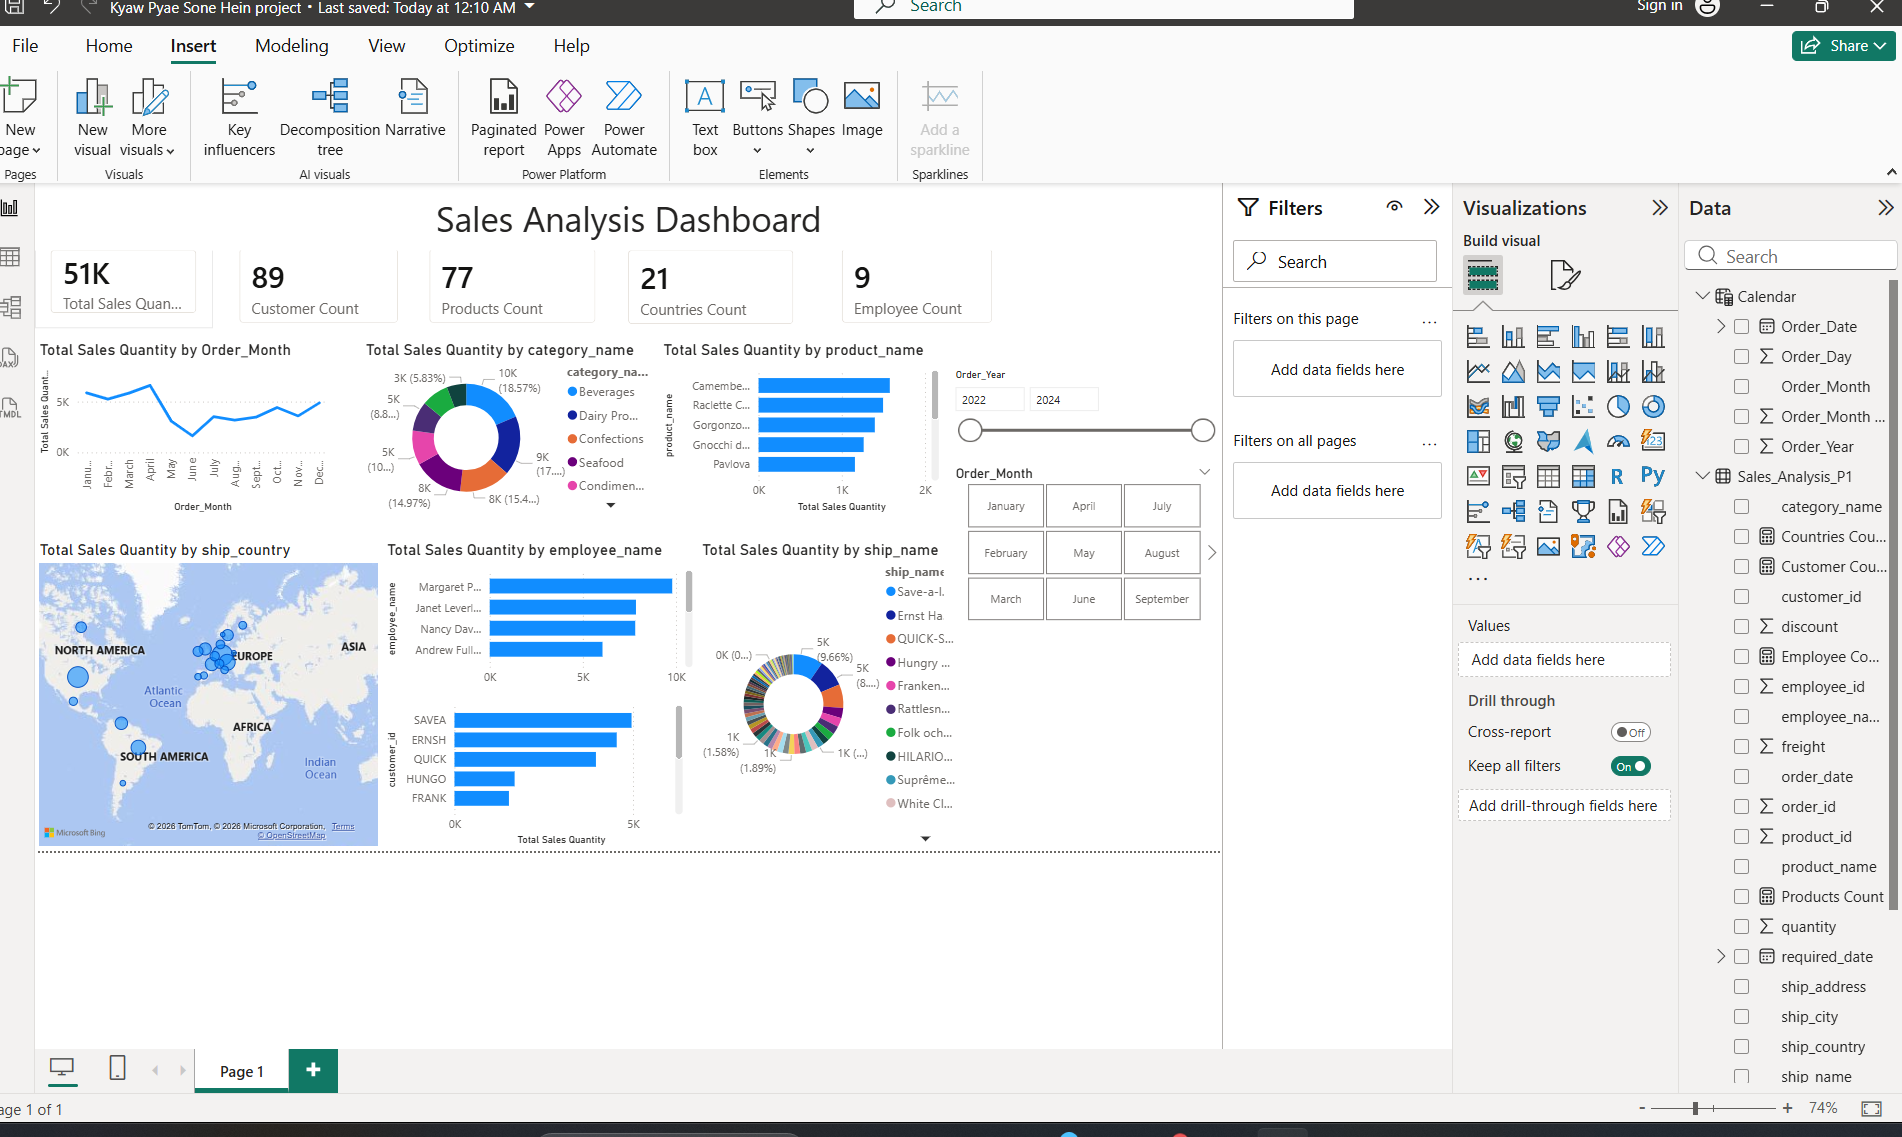

The page's visual inventory and layout, read from the dashboard file:
{"tool":"powerbi","page":{"name":"Page 1","canvas":[1280,720],"ordinal":0},"visuals":[{"type":"cardVisual","fields":{"Data":["Sales_Analysis_P1.Total Sales Quantity"]},"box":[0,54.7,191.9,102.3],"z":0},{"type":"cardVisual","fields":{"Data":["Sales_Analysis_P1.Customer Count"]},"box":[203.1,53.8,205.8,114.3],"z":1000},{"type":"cardVisual","fields":{"Data":["Sales_Analysis_P1.Products Count"]},"box":[408.8,53.8,213.8,114.3],"z":2000},{"type":"cardVisual","fields":{"Data":["Sales_Analysis_P1.Countries Count"]},"box":[622.7,55.1,212.5,114.3],"z":3000},{"type":"cardVisual","fields":{"Data":["Sales_Analysis_P1.Employee Count"]},"box":[852.6,53.8,196.3,114.3],"z":4000},{"type":"donutChart","fields":{"Category":["Sales_Analysis_P1.category_name"],"Y":["Sales_Analysis_P1.Total Sales Quantity"]},"box":[352.3,169.8,319.8,190.7],"z":6000},{"type":"clusteredBarChart","fields":{"Category":["Sales_Analysis_P1.product_name"],"Y":["Sales_Analysis_P1.Total Sales Quantity"]},"box":[672.5,169.8,307.3,190],"z":7000},{"type":"clusteredBarChart","fields":{"Y":["Sales_Analysis_P1.Total Sales Quantity"],"Category":["Sales_Analysis_P1.customer_id"]},"box":[374.6,531,328.8,188.7],"z":8000},{"type":"clusteredBarChart","fields":{"Category":["Sales_Analysis_P1.employee_name"],"Y":["Sales_Analysis_P1.Total Sales Quantity"]},"box":[374.6,385.4,339.6,165.8],"z":9000},{"type":"lineChart","fields":{"Category":["Calendar.Order_Month"],"Y":["Sales_Analysis_P1.Total Sales Quantity"]},"box":[0,169.8,320.9,190.7],"z":10001},{"type":"map","fields":{"Size":["Sales_Analysis_P1.Total Sales Quantity"],"Category":["Sales_Analysis_P1.ship_country"]},"box":[0,385.4,374.6,334.2],"z":10002},{"type":"donutChart","fields":{"Category":["Sales_Analysis_P1.ship_name"],"Y":["Sales_Analysis_P1.Total Sales Quantity"]},"box":[714.3,385.4,292.4,334.2],"z":10003},{"type":"slicer","fields":{"Values":["Calendar.Order_Year"]},"box":[979.7,195.4,300.5,103.8],"z":10004},{"type":"slicer","fields":{"Values":["Calendar.Order_Month"]},"box":[979.7,299.2,300.5,179.2],"z":10005},{"type":"textbox","box":[0,8.1,1280.3,64.7],"z":10006}]}

Visuals, with their boxes on the page's 1280x720 design canvas (x1, y1, x2, y2). These are canvas units, not pixel positions in the 1902x1137 screenshot, which may show the page scaled, cropped or inside an application window:
cardVisual - Sales_Analysis_P1.Total Sales Quantity: <bbox>0, 55, 192, 157</bbox>
cardVisual - Sales_Analysis_P1.Customer Count: <bbox>203, 54, 409, 168</bbox>
cardVisual - Sales_Analysis_P1.Products Count: <bbox>409, 54, 623, 168</bbox>
cardVisual - Sales_Analysis_P1.Countries Count: <bbox>623, 55, 835, 169</bbox>
cardVisual - Sales_Analysis_P1.Employee Count: <bbox>853, 54, 1049, 168</bbox>
donutChart - Sales_Analysis_P1.category_name x Sales_Analysis_P1.Total Sales Quantity: <bbox>352, 170, 672, 360</bbox>
clusteredBarChart - Sales_Analysis_P1.product_name x Sales_Analysis_P1.Total Sales Quantity: <bbox>672, 170, 980, 360</bbox>
clusteredBarChart - Sales_Analysis_P1.Total Sales Quantity x Sales_Analysis_P1.customer_id: <bbox>375, 531, 703, 720</bbox>
clusteredBarChart - Sales_Analysis_P1.employee_name x Sales_Analysis_P1.Total Sales Quantity: <bbox>375, 385, 714, 551</bbox>
lineChart - Calendar.Order_Month x Sales_Analysis_P1.Total Sales Quantity: <bbox>0, 170, 321, 360</bbox>
map - Sales_Analysis_P1.Total Sales Quantity x Sales_Analysis_P1.ship_country: <bbox>0, 385, 375, 720</bbox>
donutChart - Sales_Analysis_P1.ship_name x Sales_Analysis_P1.Total Sales Quantity: <bbox>714, 385, 1007, 720</bbox>
slicer - Calendar.Order_Year: <bbox>980, 195, 1280, 299</bbox>
slicer - Calendar.Order_Month: <bbox>980, 299, 1280, 478</bbox>
textbox: <bbox>0, 8, 1280, 73</bbox>
